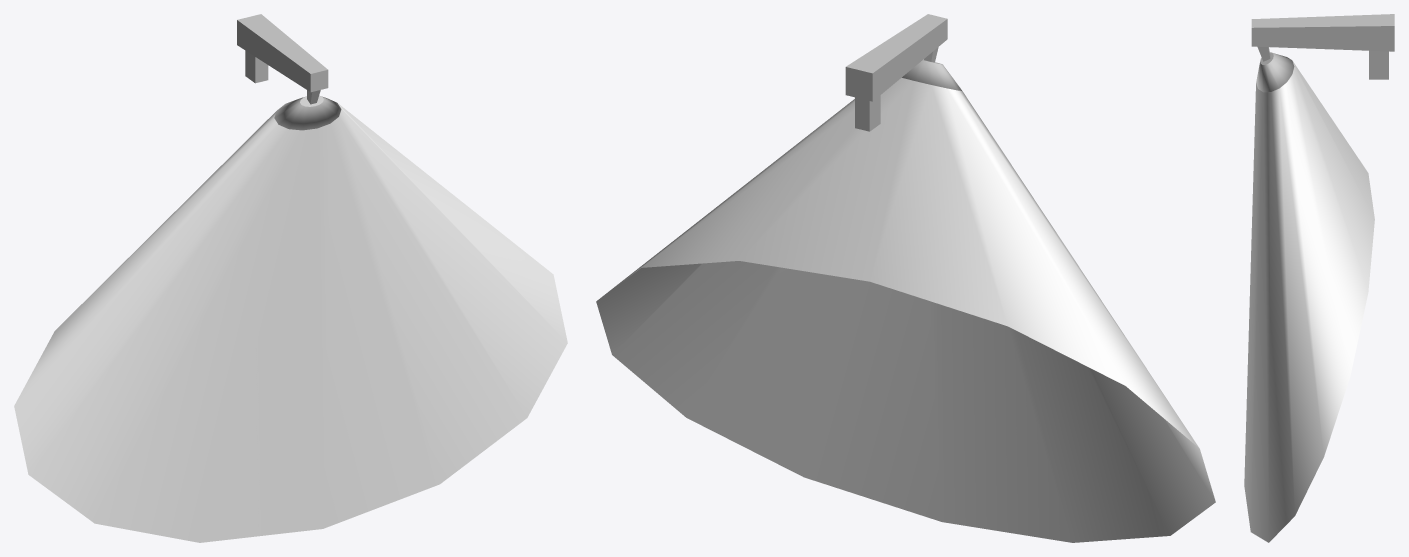
The model's file is lamp01.fbx.
The picture shows the model from 3 angles, left to right: view 1: azimuth 30°, elevation 25°; view 2: azimuth 150°, elevation 25°; view 3: azimuth 270°, elevation 25°; orthographic projection. The views are drawn at different scales.
Parts seen in each view (by area): view 1: lamp01; view 2: lamp01; view 3: lamp01.
Part boxes in pixels (x1,y1,x2,y2): lamp01: (14, 14, 567, 542); lamp01: (596, 14, 1215, 542); lamp01: (1244, 14, 1394, 542).
Bounding box in the file's own units: 513 × 416 × 122.
